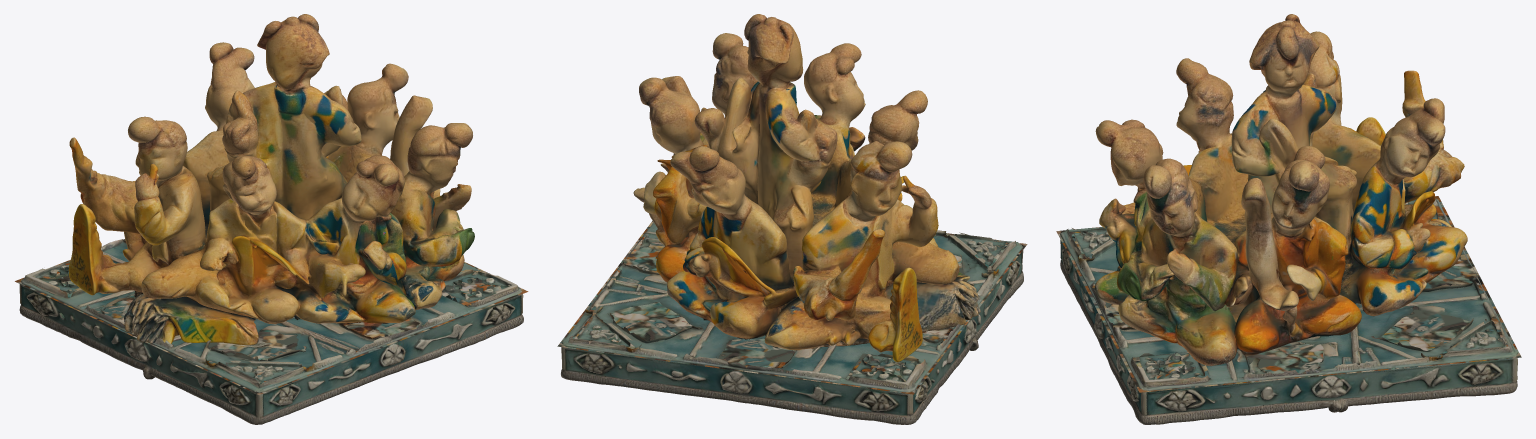
Rendered from musicians_all.glb.
The picture shows the model from 3 angles, left to right: view 1: azimuth 30°, elevation 25°; view 2: azimuth 150°, elevation 25°; view 3: azimuth 270°, elevation 25°; orthographic projection. The views are drawn at different scales.
Visible parts, largest first — view 1: square_base, part_0, part_17, part_18, part_4, part_6, part_10, part_22, part_2, part_9, part_12, part_14 (+28 smaller); view 2: square_base, part_0, part_4, part_8, part_5, part_11, part_9, part_14, part_12, part_10, part_30, part_35 (+21 smaller); view 3: square_base, part_0, part_6, part_5, part_23, part_1, part_15, part_2, part_16, part_31, part_30, part_10 (+19 smaller).
Part boxes in pixels (x1,y1,x2,y2): square_base: (15, 239, 528, 424); part_0: (205, 14, 343, 241); part_17: (310, 198, 415, 323); part_18: (392, 183, 474, 266); part_4: (141, 166, 205, 267); part_6: (404, 123, 472, 276); part_10: (347, 63, 408, 155); part_22: (153, 296, 258, 345); part_2: (222, 155, 276, 249); part_9: (69, 137, 137, 233); part_12: (68, 204, 130, 295); part_14: (340, 155, 405, 223); square_base: (557, 220, 1027, 424); part_0: (744, 14, 806, 288); part_4: (802, 196, 927, 325); part_8: (693, 237, 797, 339); part_5: (683, 206, 792, 301); part_11: (844, 141, 912, 221); part_9: (793, 229, 884, 320); part_14: (804, 43, 865, 125); part_12: (850, 267, 922, 362); part_10: (639, 77, 708, 153); part_30: (670, 151, 760, 220); part_35: (765, 87, 824, 182); square_base: (1056, 196, 1521, 424); part_0: (1248, 14, 1322, 212); part_6: (1143, 158, 1229, 326); part_5: (1350, 165, 1416, 274); part_23: (1234, 295, 1361, 355); part_1: (1234, 213, 1348, 306); part_15: (1241, 178, 1302, 339); part_2: (1176, 58, 1233, 152); part_16: (1166, 212, 1238, 311); part_31: (1188, 133, 1248, 241); part_30: (1372, 108, 1445, 185); part_10: (1271, 159, 1329, 237).
Size of the model in its own units: 1.01 by 0.777 by 1.01.
Materials: 58 (58 with a texture image).
